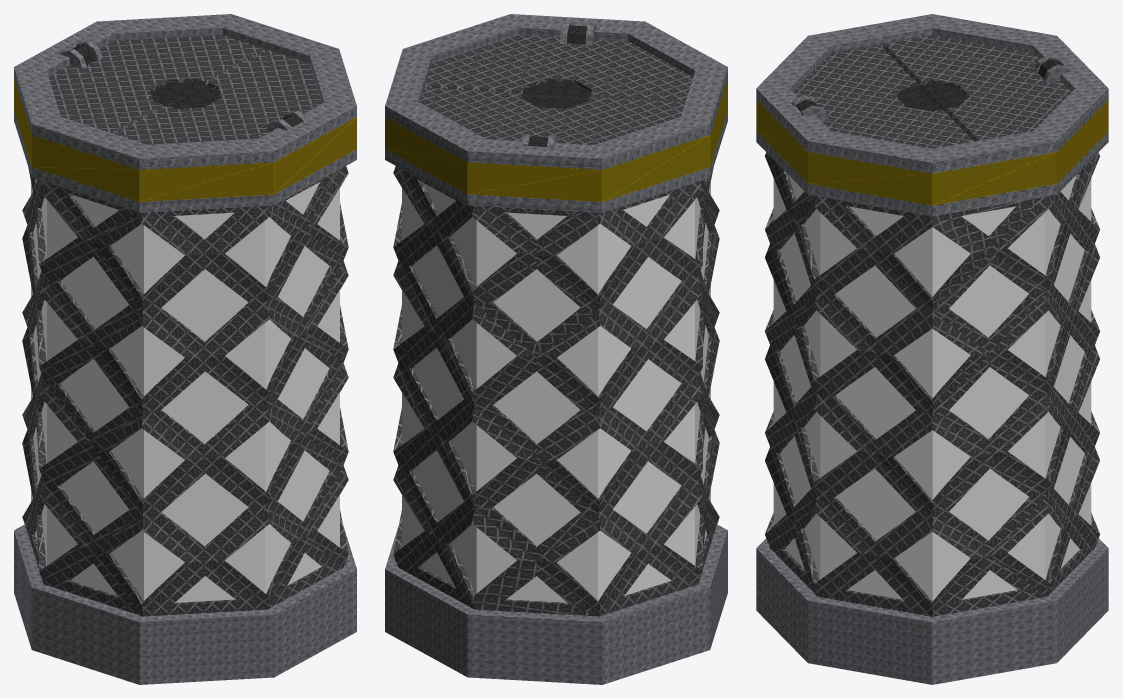
The model's file is CollectionContainer.fbx.
The picture shows the model from 3 angles, left to right: view 1: azimuth 30°, elevation 25°; view 2: azimuth 150°, elevation 25°; view 3: azimuth 270°, elevation 25°; orthographic projection.
Visible parts, largest first — view 1: cross, glass, LidCap, Bottom, LidDoor1, LidDoor2; view 2: cross, glass, LidCap, Bottom, LidDoor2, LidDoor1; view 3: cross, glass, LidCap, Bottom, LidDoor1, LidDoor2.
Part boxes in pixels (x1,y1,x2,y2): cross: [22, 166, 348, 616]; glass: [31, 182, 339, 602]; LidCap: [14, 14, 356, 212]; Bottom: [14, 524, 356, 684]; LidDoor1: [48, 35, 265, 134]; LidDoor2: [115, 50, 322, 144]; cross: [393, 166, 719, 616]; glass: [402, 182, 710, 602]; LidCap: [385, 14, 727, 212]; Bottom: [385, 524, 727, 684]; LidDoor2: [425, 23, 693, 101]; LidDoor1: [419, 87, 685, 148]; cross: [765, 152, 1099, 616]; glass: [773, 175, 1091, 601]; LidCap: [756, 14, 1108, 216]; Bottom: [756, 538, 1108, 684]; LidDoor1: [882, 35, 1071, 141]; LidDoor2: [791, 44, 973, 148].
Size of the model in its own units: 2170 by 3591 by 2170.
